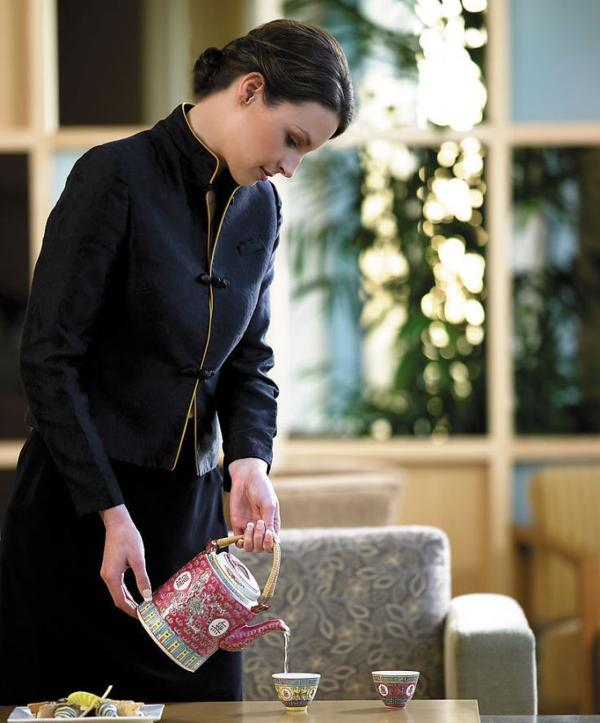person: (10, 19, 354, 700)
